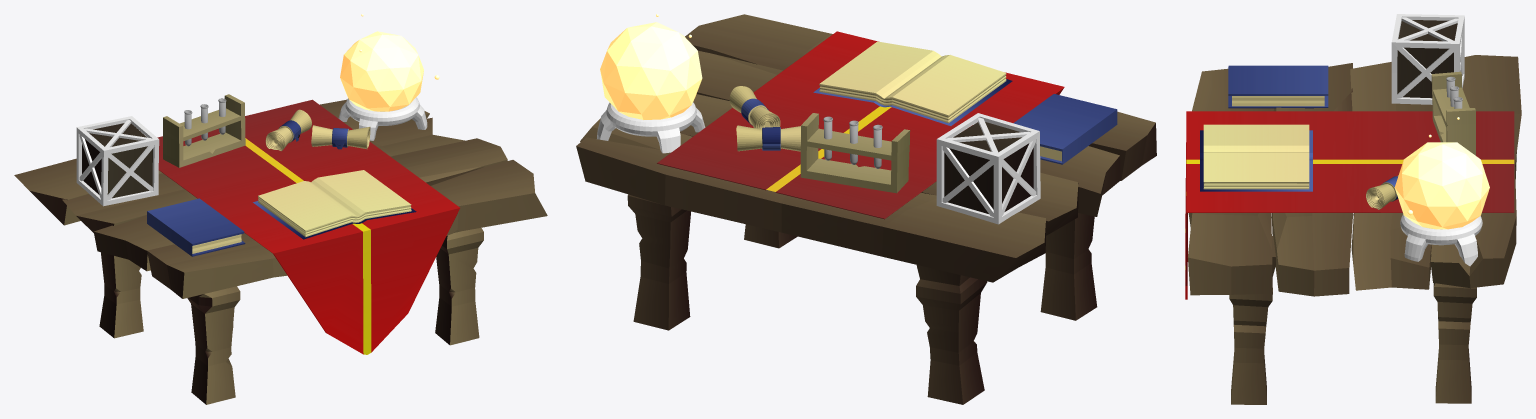
Rendered from low_poly_alchemy_table.glb.
3 views of the same model, side by side, from view 1: azimuth 30°, elevation 25°; view 2: azimuth 150°, elevation 25°; view 3: azimuth 270°, elevation 25° (orthographic). The views are drawn at different scales.
Parts seen in each view (by area): view 1: Object_2, Object_5, Object_3, Object_4, Object_6; view 2: Object_2, Object_5, Object_3, Object_4, Object_6; view 3: Object_2, Object_5, Object_4, Object_3, Object_6.
Boxes of the visible parts, bbox=[...] form: Object_2: bbox=[14, 94, 547, 404]; Object_5: bbox=[82, 120, 416, 256]; Object_3: bbox=[76, 97, 427, 206]; Object_4: bbox=[340, 14, 439, 111]; Object_6: bbox=[184, 98, 226, 146]; Object_2: bbox=[576, 14, 1156, 404]; Object_5: bbox=[741, 41, 1117, 213]; Object_3: bbox=[597, 102, 1040, 224]; Object_4: bbox=[600, 14, 702, 119]; Object_6: bbox=[823, 116, 882, 168]; Object_2: bbox=[1185, 55, 1521, 404]; Object_5: bbox=[1200, 20, 1457, 201]; Object_4: bbox=[1394, 117, 1489, 229]; Object_3: bbox=[1391, 14, 1482, 266]; Object_6: bbox=[1446, 76, 1462, 108].
Size of the model in its own units: 1.97 by 1.2 by 1.3.
Materials: 5 (2 with a texture image).
